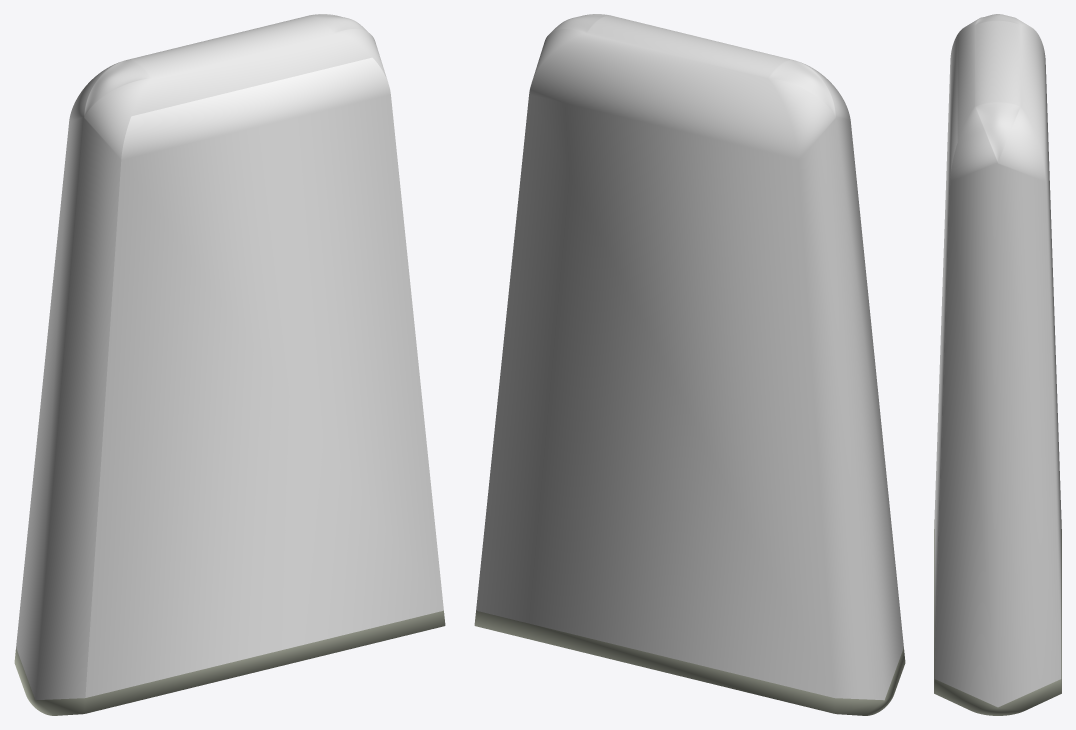
Rendered from campana-v1-cerrada.glb.
3 renders of one model, left to right at view 1: azimuth 30°, elevation 25°; view 2: azimuth 150°, elevation 25°; view 3: azimuth 270°, elevation 25°, orthographic. The views are drawn at different scales.
Parts seen in each view (by area): view 1: campana v2.002; view 2: campana v2.002; view 3: campana v2.002.
Boxes of the visible parts, x1,y1,x2,y2 form: campana v2.002: [14, 14, 445, 715]; campana v2.002: [474, 14, 905, 715]; campana v2.002: [934, 14, 1061, 715].
Bounding box in the file's own units: 0.1226 × 0.1871 × 0.0381.
3 materials, 1 textured.
